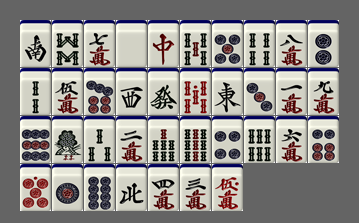0m: (212, 164, 243, 211)
0p: (20, 164, 51, 211)
0s: (180, 68, 211, 115)
1m: (276, 68, 307, 115)
1p: (52, 164, 83, 211)
1s: (52, 116, 83, 163)
1z: (212, 68, 243, 115)
2m: (116, 116, 147, 163)
2p: (308, 20, 339, 67)
2s: (20, 68, 51, 115)
2z: (20, 20, 51, 67)
3m: (180, 164, 211, 211)
3p: (244, 68, 275, 115)
3s: (84, 116, 115, 163)
3z: (116, 68, 147, 115)
4m: (148, 164, 179, 211)
4p: (212, 116, 243, 163)
4s: (244, 20, 275, 67)
4z: (116, 164, 147, 211)
5m: (52, 68, 83, 115)
5p: (212, 20, 243, 67)
5s: (180, 20, 211, 67)
5z: (116, 20, 147, 67)
6m: (276, 116, 307, 163)
6p: (308, 116, 339, 163)
6s: (244, 116, 275, 163)
6z: (148, 68, 179, 115)
7m: (84, 20, 115, 67)
7p: (84, 68, 115, 115)
7s: (148, 116, 179, 163)
7z: (148, 20, 179, 67)
8m: (276, 20, 307, 67)
8p: (84, 164, 115, 211)
8s: (52, 20, 83, 67)
9m: (308, 68, 339, 115)
9p: (20, 116, 51, 163)
9s: (180, 116, 211, 163)
